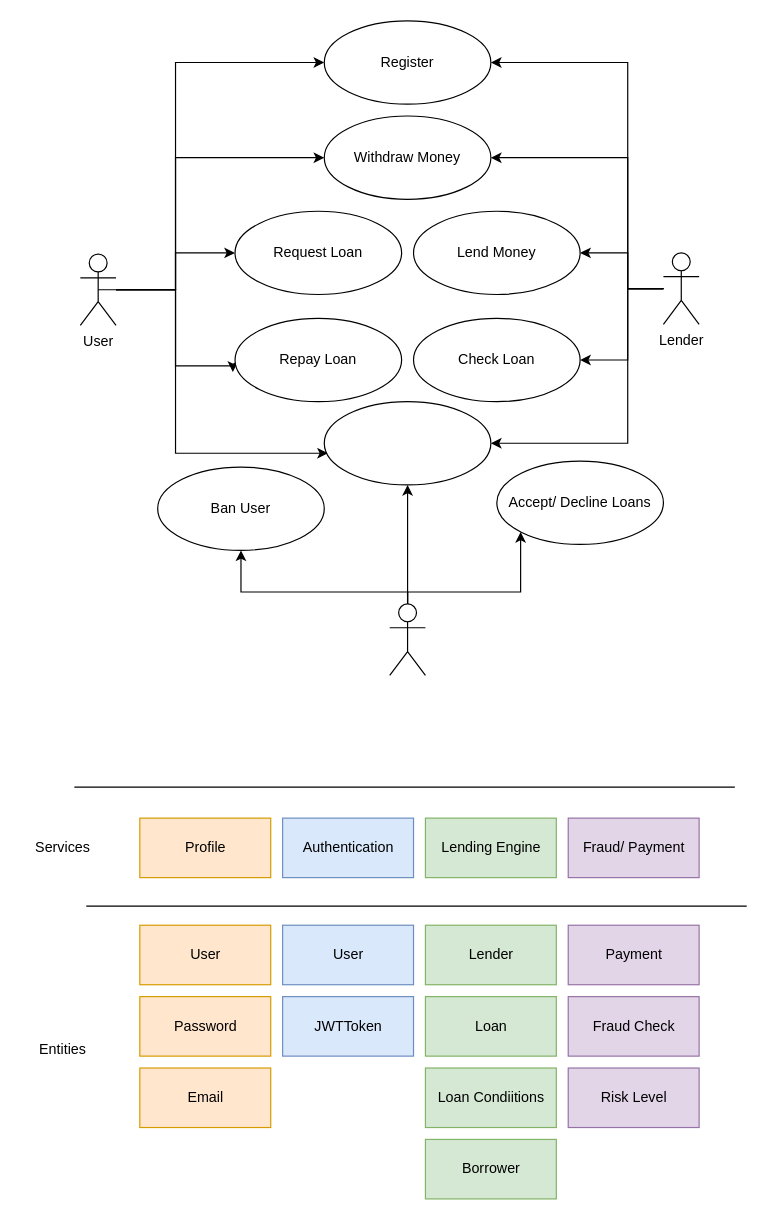
Image size: 768x1220. Some labels were removed from this diagram. The centre of each missing label's shape, as x and y in pixels:
"Admin" goes at pixel 407 639.
"Login" goes at pixel 407 442.
